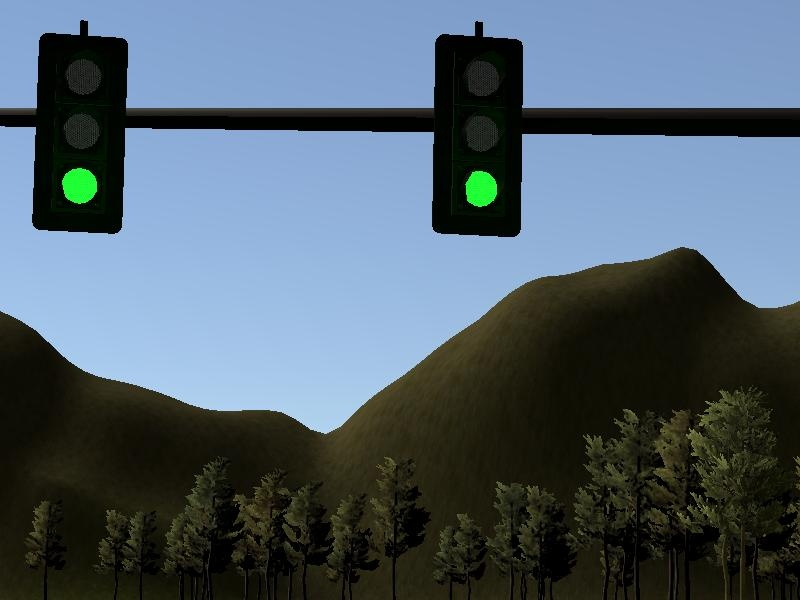GREEN: (434, 36, 524, 238), (35, 35, 125, 232)
